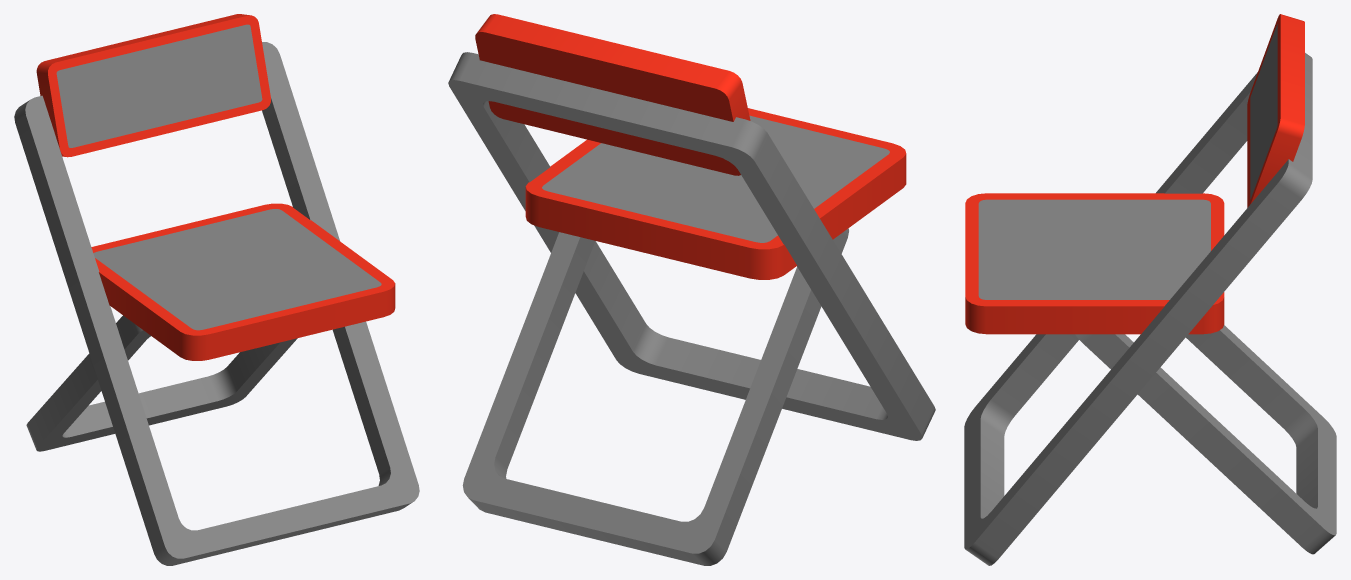
The model's file is Stool Red.fbx.
3 views of the same model, side by side, from view 1: azimuth 30°, elevation 25°; view 2: azimuth 150°, elevation 25°; view 3: azimuth 270°, elevation 25° (orthographic). The views are drawn at different scales.
Parts seen in each view (by area): view 1: Stool Red; view 2: Stool Red; view 3: Stool Red.
Part boxes in pixels (x1,y1,x2,y2): Stool Red: [14, 14, 419, 565]; Stool Red: [448, 14, 935, 565]; Stool Red: [964, 14, 1336, 565].
Size of the model in its own units: 103 by 156 by 120.
